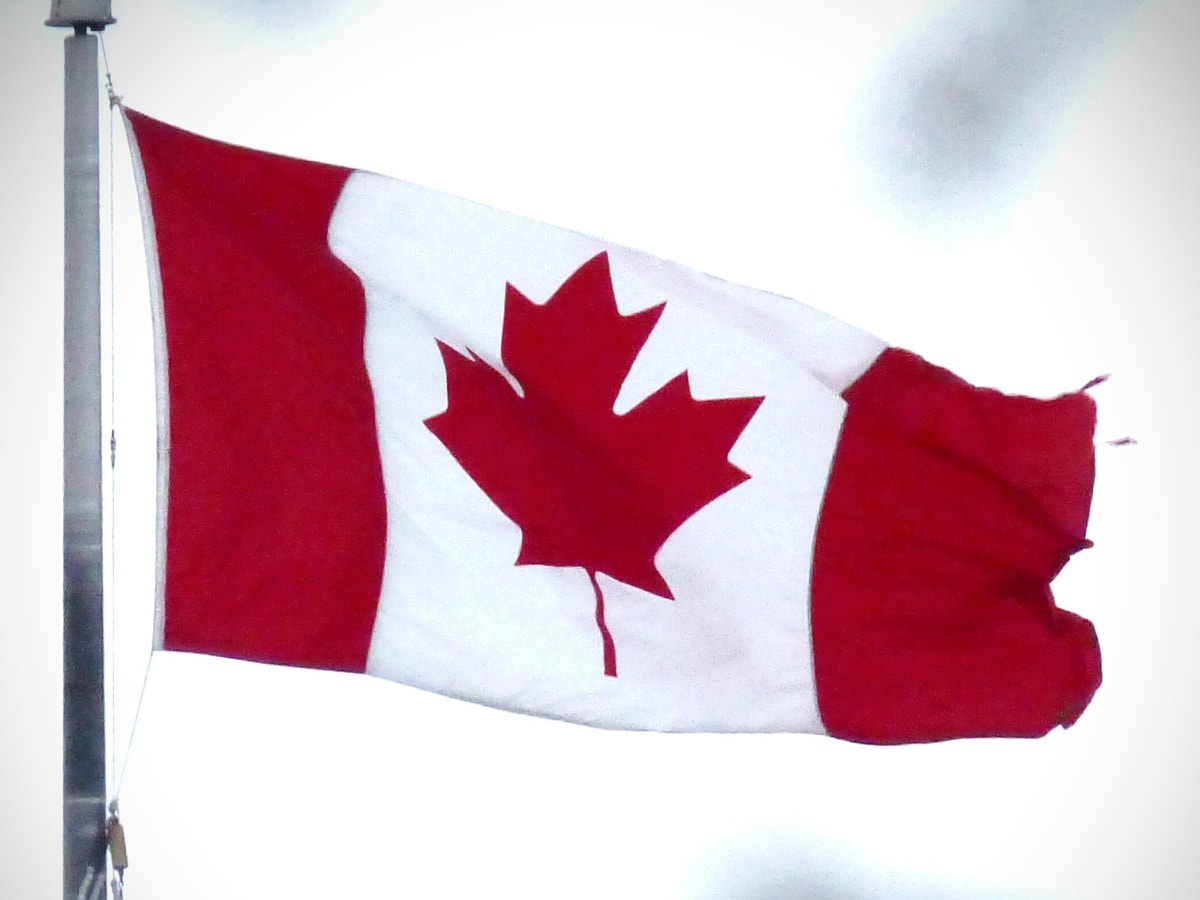Canada flag: (118, 101, 1114, 743)
